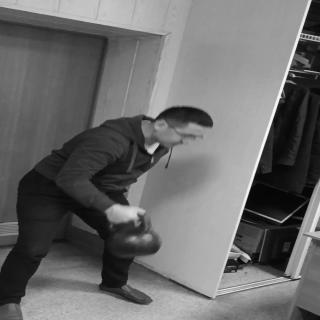girya: (106, 213, 163, 259)
